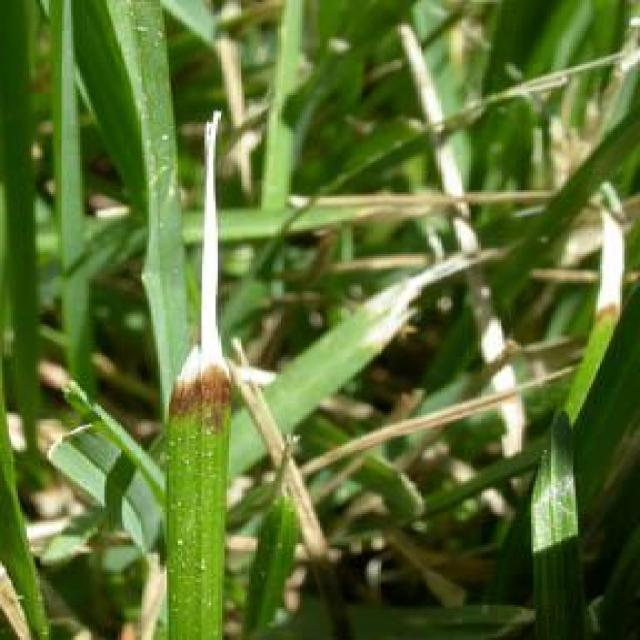blight: (173, 345, 238, 426)
